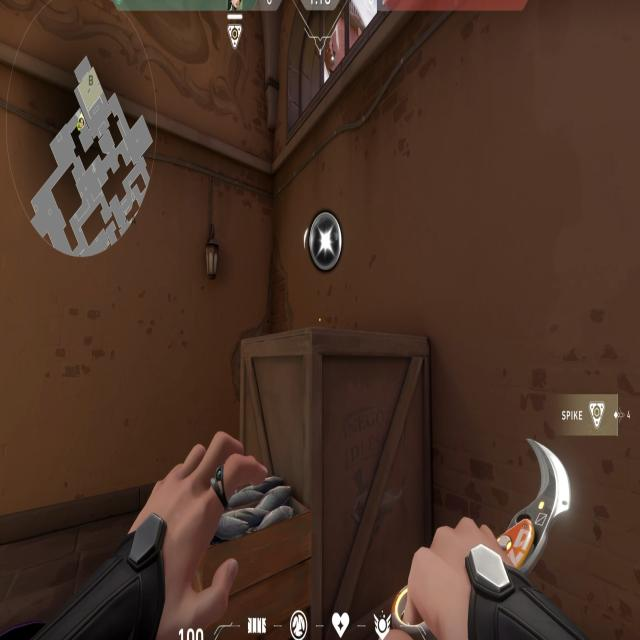B_Main_Wallbang: (229, 205, 430, 640)
Throwables: (277, 0, 418, 178)
